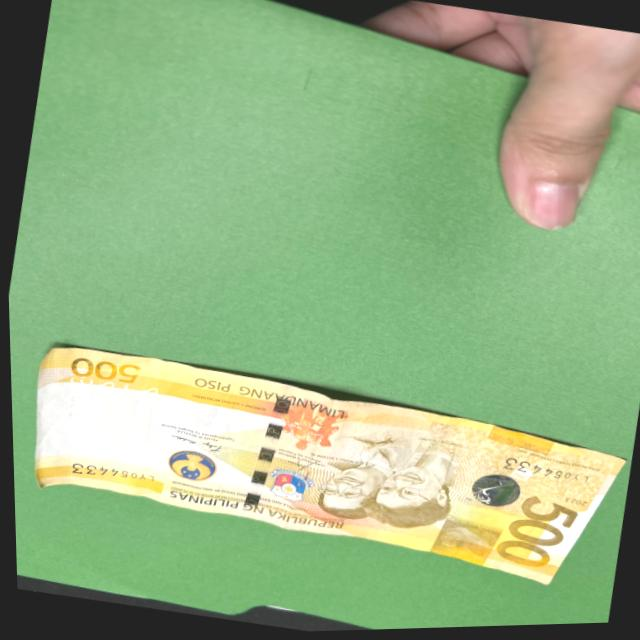concealed_value: (427, 524, 505, 568)
security_thread: (227, 380, 309, 524)
see_through_mark: (56, 370, 164, 407)
serial_number: (47, 451, 168, 505), (488, 456, 593, 487)
value: (486, 493, 587, 579)
value_watermark: (58, 387, 93, 423)
watermark: (40, 377, 165, 478)
